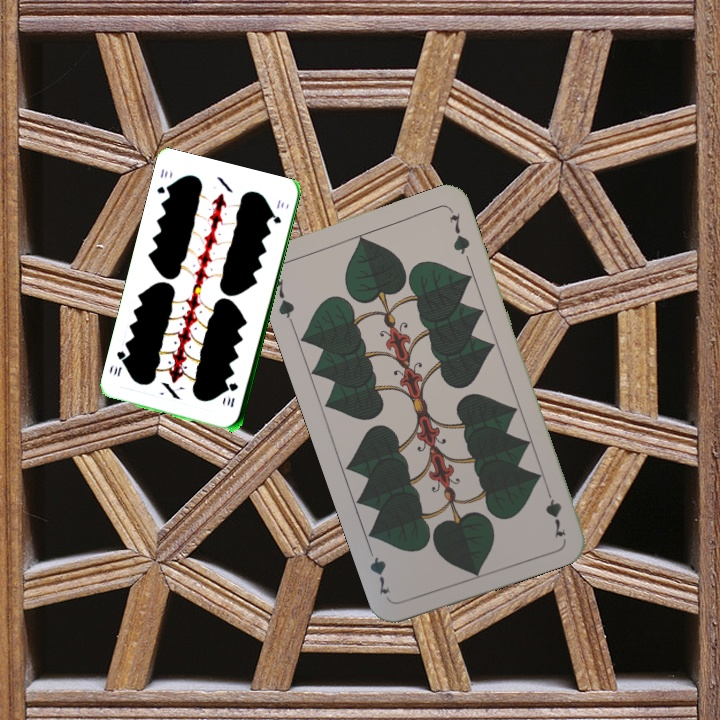G10: (153, 165, 173, 197), (223, 379, 241, 410)
G7: (541, 482, 569, 541), (269, 275, 297, 327)
